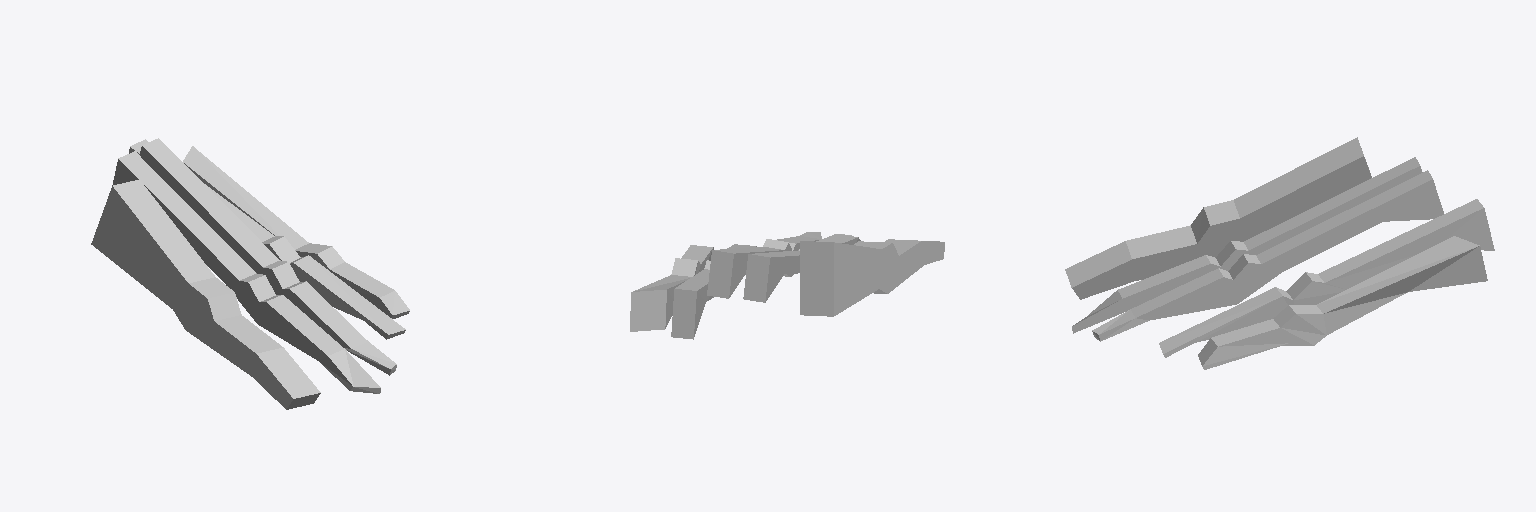
Rendered from doigts_pied_left.obj.
3 views of the same model, side by side, from view 1: azimuth 30°, elevation 25°; view 2: azimuth 150°, elevation 25°; view 3: azimuth 270°, elevation 25° (orthographic).
Visible parts, largest first — view 1: L_TOES01_L_TOES01_WHITE_BONE; view 2: L_TOES01_L_TOES01_WHITE_BONE; view 3: L_TOES01_L_TOES01_WHITE_BONE.
Part boxes in pixels (left/top/right/bottom): L_TOES01_L_TOES01_WHITE_BONE: left=91, top=138, right=409, bottom=409; L_TOES01_L_TOES01_WHITE_BONE: left=630, top=232, right=944, bottom=339; L_TOES01_L_TOES01_WHITE_BONE: left=1065, top=137, right=1494, bottom=369.
Size of the model in its own units: 4.68 by 2.62 by 7.55.